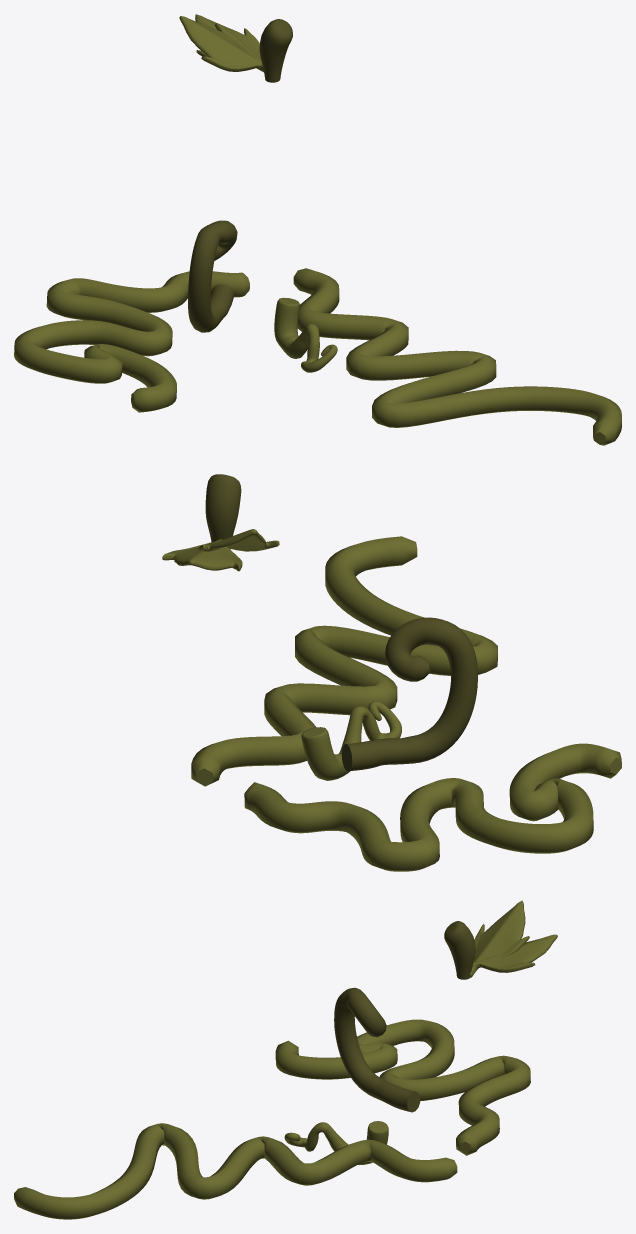
Rendered from SM_Gregory_ALL_02-2.fbx.
The picture shows the model from 3 angles, top to bottom: view 1: azimuth 30°, elevation 25°; view 2: azimuth 150°, elevation 25°; view 3: azimuth 270°, elevation 25°; orthographic projection. The views are drawn at different scales.
Visible parts, largest first — view 1: SM_Vinefloor_02, SM_Vinefloor_01, SM_Vine_Verticle_01, SM_Vine_Verticle_02, leaf_pumpkin_02, SM_Sterm, leaf_pumpkin_01; view 2: SM_Vinefloor_01, SM_Vinefloor_02, SM_Vine_Verticle_01, SM_Vine_Verticle_02, SM_Sterm, leaf_pumpkin_01, leaf_pumpkin_02; view 3: SM_Vinefloor_02, SM_Vinefloor_01, SM_Vine_Verticle_01, leaf_pumpkin_02, leaf_pumpkin_01, SM_Vine_Verticle_02, SM_Sterm.
Boxes of the visible parts, x1=… form: SM_Vinefloor_02: x1=293, y1=268, x2=621, y2=445; SM_Vinefloor_01: x1=14, y1=271, x2=249, y2=412; SM_Vine_Verticle_01: x1=188, y1=220, x2=237, y2=332; SM_Vine_Verticle_02: x1=274, y1=297, x2=337, y2=372; leaf_pumpkin_02: x1=179, y1=16, x2=263, y2=72; SM_Sterm: x1=259, y1=19, x2=292, y2=82; leaf_pumpkin_01: x1=195, y1=14, x2=263, y2=71; SM_Vinefloor_01: x1=244, y1=743, x2=621, y2=871; SM_Vinefloor_02: x1=191, y1=536, x2=497, y2=786; SM_Vine_Verticle_01: x1=341, y1=617, x2=477, y2=770; SM_Vine_Verticle_02: x1=301, y1=701, x2=401, y2=780; SM_Sterm: x1=205, y1=474, x2=241, y2=549; leaf_pumpkin_01: x1=162, y1=539, x2=242, y2=571; leaf_pumpkin_02: x1=199, y1=529, x2=279, y2=551; SM_Vinefloor_02: x1=14, y1=1123, x2=457, y2=1219; SM_Vinefloor_01: x1=275, y1=1019, x2=530, y2=1155; SM_Vine_Verticle_01: x1=334, y1=987, x2=420, y2=1112; leaf_pumpkin_02: x1=469, y1=900, x2=529, y2=977; leaf_pumpkin_01: x1=472, y1=934, x2=557, y2=972; SM_Vine_Verticle_02: x1=284, y1=1121, x2=388, y2=1164; SM_Sterm: x1=444, y1=921, x2=475, y2=979.
Size of the model in its own units: 4.47 by 2.91 by 6.19.
